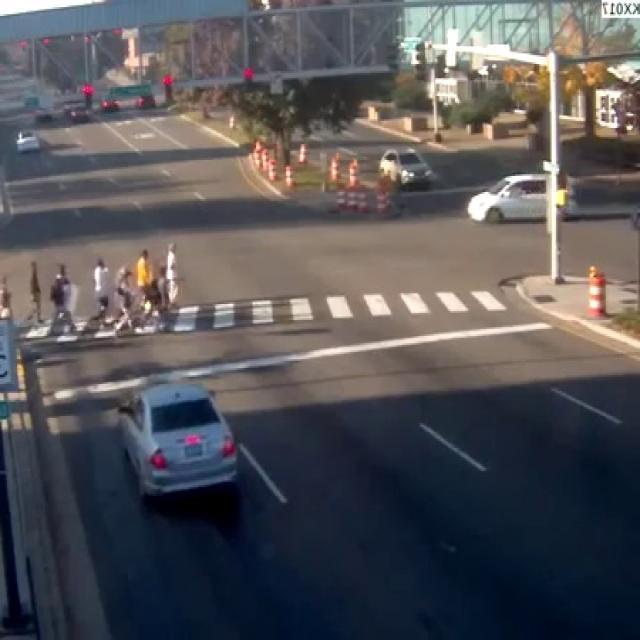car: (117, 382, 234, 493), (466, 173, 544, 219), (378, 146, 432, 186)
red_light: (160, 71, 172, 103), (80, 81, 92, 107), (240, 64, 253, 85)
stop_line: (48, 320, 548, 400)
